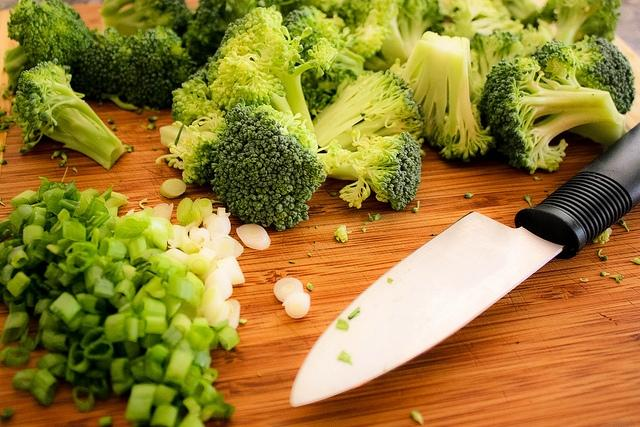broccoli: (156, 102, 326, 231), (476, 40, 626, 176), (10, 59, 133, 169), (398, 30, 498, 162), (312, 69, 426, 157), (282, 5, 366, 118), (316, 1, 445, 71), (318, 133, 422, 210), (182, 0, 282, 65), (568, 34, 636, 116), (73, 26, 138, 106), (538, 0, 622, 47), (98, 0, 192, 41), (172, 76, 226, 146), (470, 28, 523, 96), (438, 0, 524, 41), (516, 24, 554, 57), (502, 0, 540, 29)
green onion: (70, 198, 110, 241), (49, 292, 84, 336), (101, 258, 143, 290), (125, 383, 157, 422), (30, 368, 58, 406), (200, 393, 235, 423), (149, 216, 175, 251), (105, 312, 134, 342), (2, 312, 30, 343), (7, 204, 34, 236), (152, 252, 186, 276), (36, 353, 68, 378), (129, 355, 155, 384), (192, 378, 218, 406), (76, 292, 106, 316), (114, 219, 148, 239), (40, 188, 66, 214), (7, 270, 31, 298), (187, 326, 215, 350), (68, 342, 88, 375), (168, 273, 192, 300), (149, 405, 178, 427), (137, 296, 166, 318), (42, 329, 71, 350), (84, 340, 114, 360), (30, 274, 54, 299), (0, 347, 30, 367), (33, 238, 56, 264), (64, 241, 98, 258), (142, 356, 164, 382), (152, 384, 178, 406), (66, 252, 92, 274), (81, 327, 108, 348), (160, 324, 183, 348), (72, 386, 94, 411), (110, 357, 132, 382), (145, 344, 169, 366), (218, 326, 240, 350), (39, 310, 62, 332), (74, 193, 95, 217), (0, 263, 21, 287), (128, 234, 147, 260), (93, 278, 115, 300), (62, 221, 86, 241), (44, 262, 64, 286), (125, 318, 145, 342), (22, 224, 44, 245), (144, 314, 167, 334), (174, 300, 197, 320), (113, 376, 136, 396), (86, 378, 108, 398), (62, 178, 80, 202), (10, 250, 30, 269), (29, 206, 46, 228), (183, 396, 201, 414), (104, 196, 129, 208), (203, 368, 218, 382), (44, 280, 63, 291), (57, 259, 68, 273), (118, 296, 126, 310)
